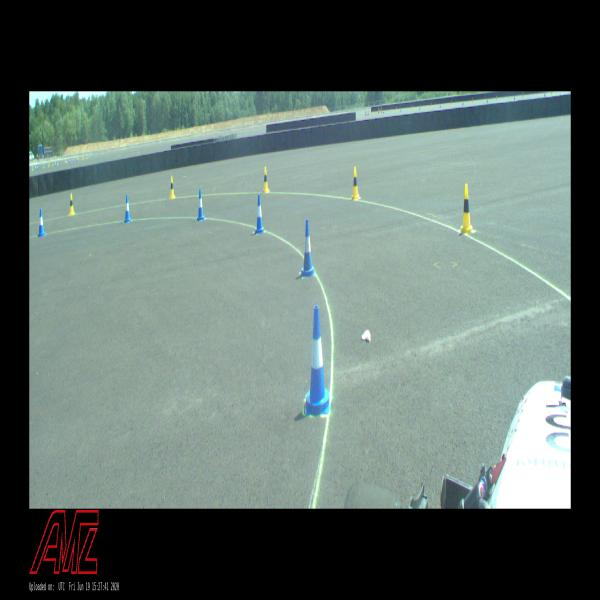blue_cone: (306, 306, 330, 416), (301, 219, 314, 277), (255, 194, 264, 235), (38, 209, 46, 237), (197, 190, 204, 222), (124, 194, 131, 222)
yellow_cone: (460, 183, 473, 234), (351, 167, 360, 200), (169, 176, 176, 198), (263, 167, 269, 192), (69, 194, 75, 215)
